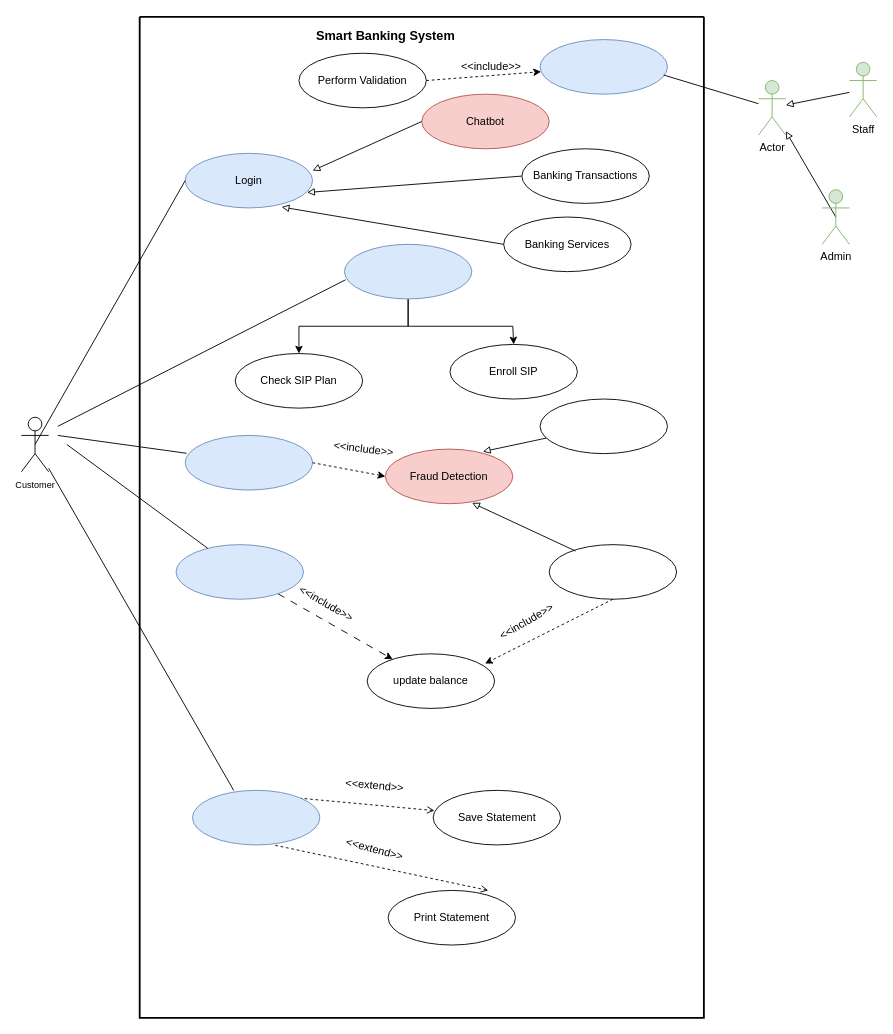
Image size: 893x1034. Some labels were removed from this diagram. The shapes that lost their labels are listed below. From the top down, each one's centre as x and y in pixels, then its label:
At (x=603, y=66): "Register User".
At (x=408, y=271): "SIP Calculator".
At (x=603, y=426): "Fraud Alert".
At (x=248, y=462): "Withdrawl".
At (x=239, y=571): "Deposit".
At (x=612, y=571): "Successful Transaction".
At (x=256, y=817): "View Statement".
